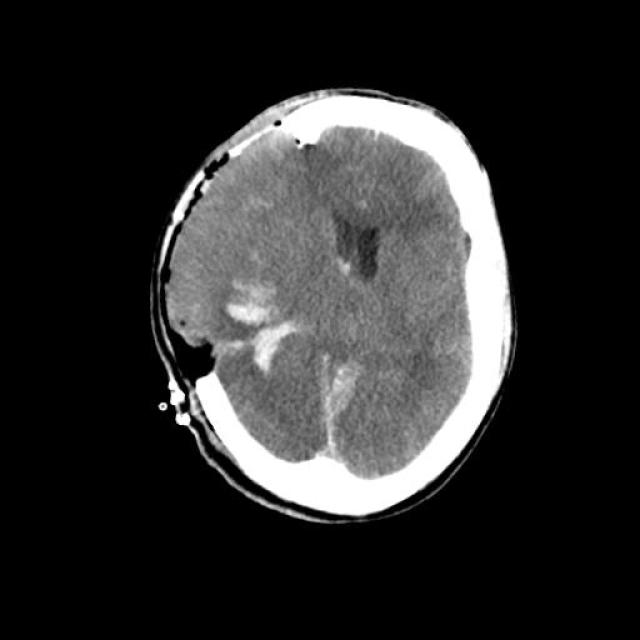Intraparenchymal: (207, 252, 323, 380), (326, 348, 390, 426)
Intraventricular: (317, 210, 397, 290)
Subdural: (283, 345, 349, 471)
